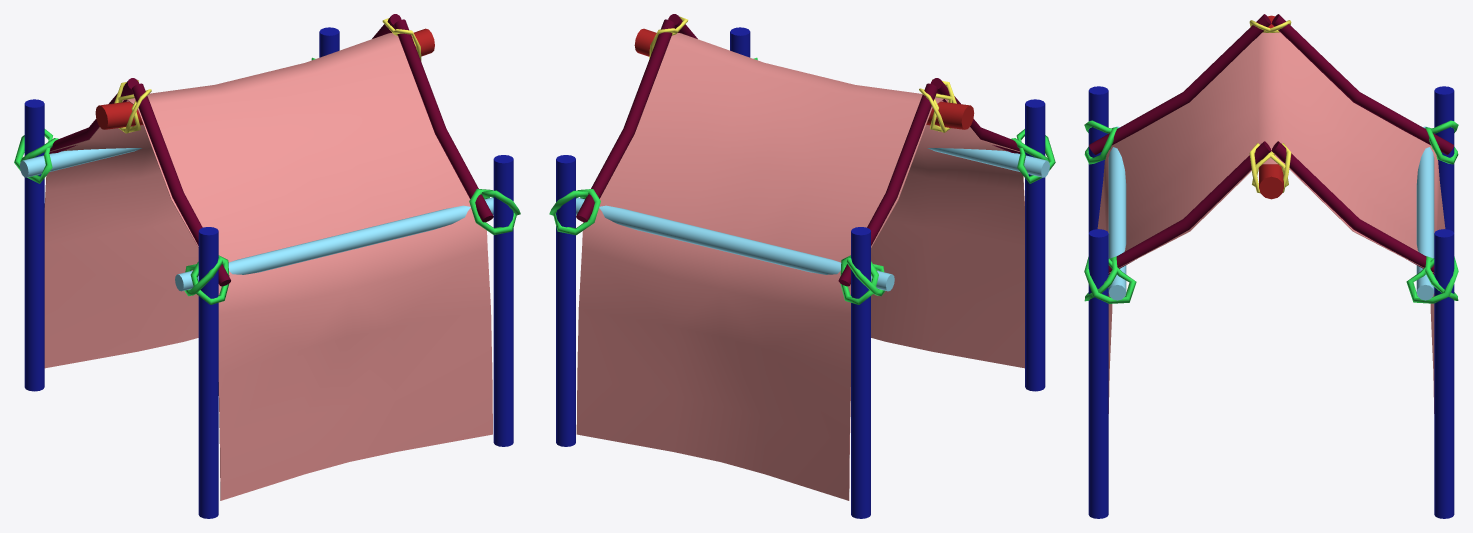
The picture shows the model from 3 angles, left to right: view 1: azimuth 30°, elevation 25°; view 2: azimuth 150°, elevation 25°; view 3: azimuth 270°, elevation 25°; orthographic projection.
Parts seen in each view (by area): view 1: Box005, Cylinder005, Cylinder004, Cylinder006, Cylinder003, Loft002, Loft004, Loft003; view 2: Box005, Cylinder005, Cylinder004, Cylinder006, Cylinder003, Loft003, Loft005, Loft002; view 3: Box005, Cylinder005, Cylinder006, Cylinder004, Loft004, Loft005, Cylinder003, Loft002, Loft003, Loft006, Loft007.
Part boxes in pixels (x1,y1,x2,y2): Box005: (44,33,492,500); Cylinder005: (24,27,513,518); Cylinder004: (20,148,493,291); Cylinder006: (49,14,493,286); Cylinder003: (95,28,434,129); Loft002: (184,255,229,304); Loft004: (469,188,520,234); Loft003: (14,129,58,183); Box005: (576,33,1024,500); Cylinder005: (556,27,1045,518); Cylinder004: (576,148,1049,291); Cylinder006: (576,14,1020,286); Cylinder003: (634,28,974,129); Loft003: (840,255,885,304); Loft005: (549,189,600,235); Loft002: (1011,129,1055,183); Box005: (1097,32,1445,413); Cylinder005: (1088,86,1454,518); Cylinder006: (1089,14,1453,274); Cylinder004: (1108,126,1434,300); Loft004: (1084,256,1136,303); Loft005: (1406,256,1458,303); Cylinder003: (1259,15,1283,199); Loft002: (1084,120,1117,164); Loft003: (1425,120,1458,164); Loft006: (1249,20,1288,193); Loft007: (1252,20,1291,192).
Bounding box in the file's own units: 119 × 127 × 118.
